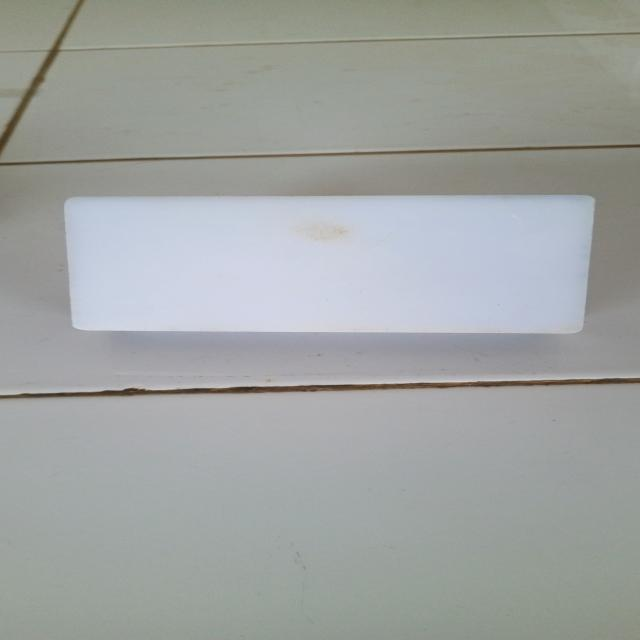Set of Resistances: (35, 186, 624, 347)
